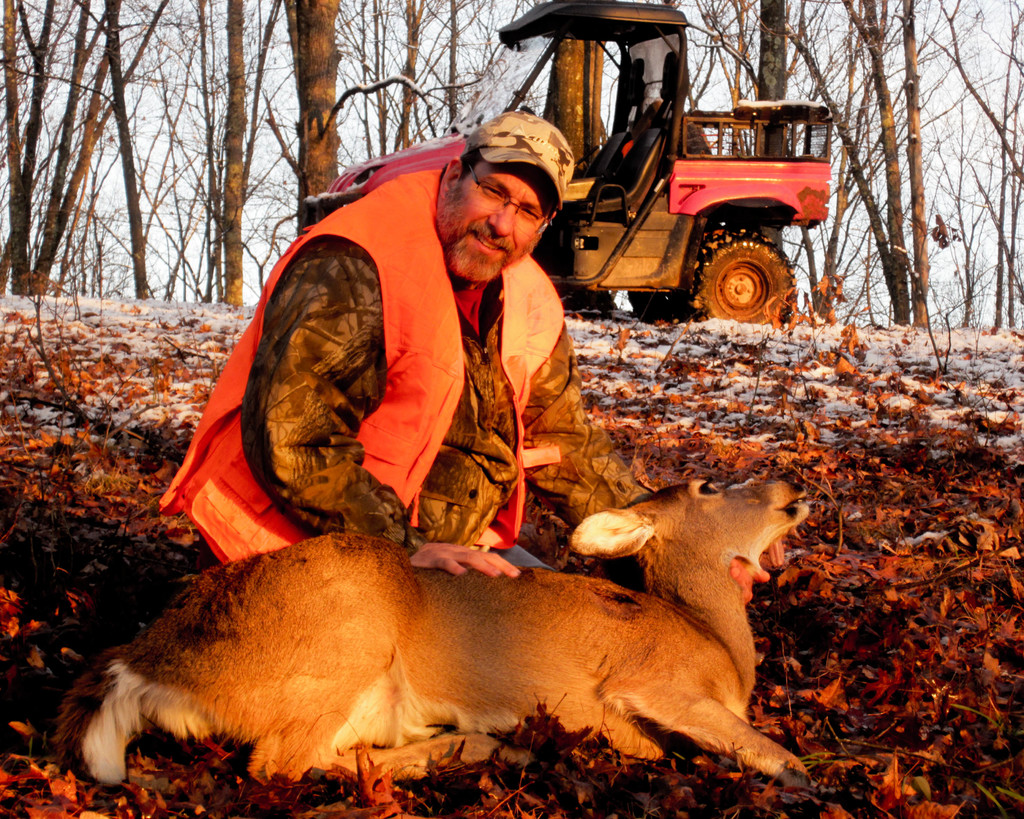face: (430, 133, 563, 293)
